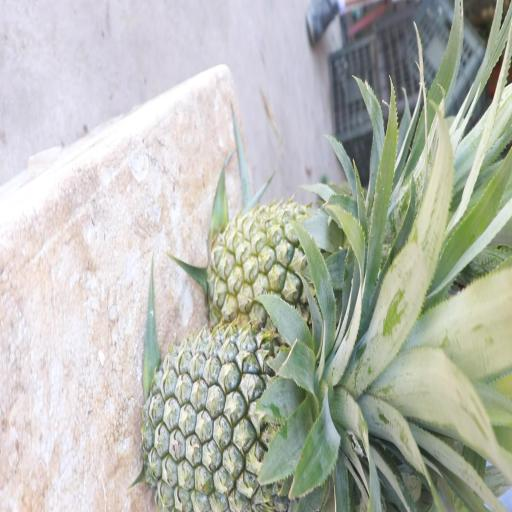Pineapple - v8 v1: (211, 189, 362, 343)
